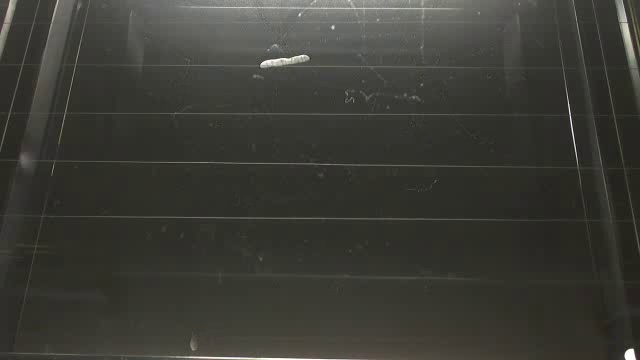Alfa: (256, 52, 311, 71)
